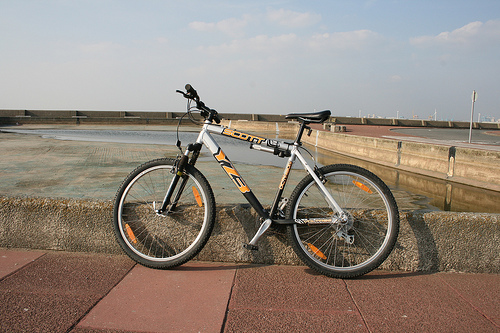bicycle: (105, 74, 409, 280)
